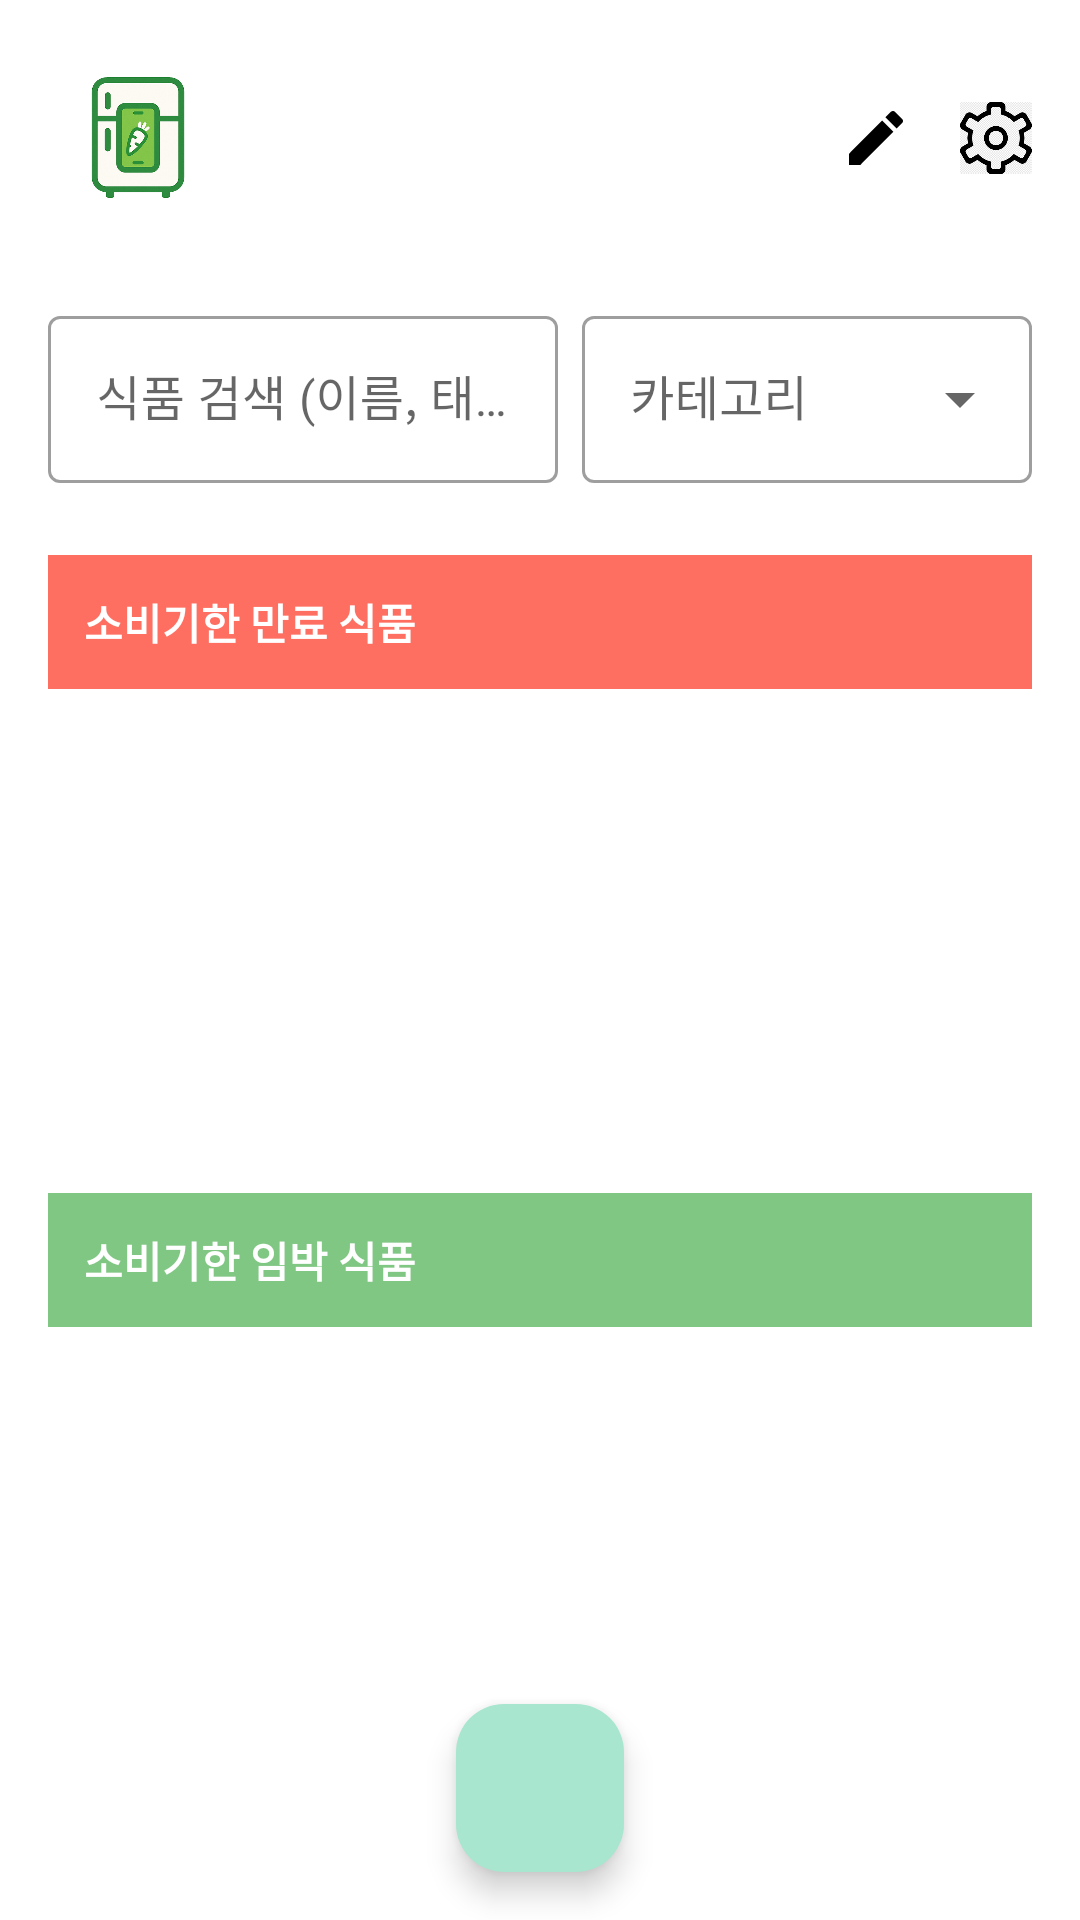

Where to tap for icons on this 1080×1920 app screen, as point (x, y):
설정: point (996, 138)
